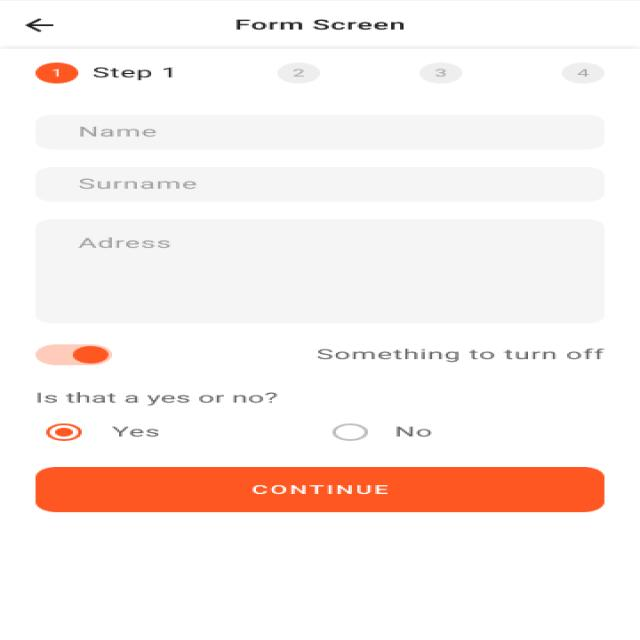QLabel: (306, 347, 614, 362), (28, 390, 281, 406), (228, 18, 409, 32), (250, 484, 397, 496)
VAppBar: (0, 0, 640, 50)
VBtn: (33, 467, 606, 513)
VIcon: (18, 17, 57, 35)
VRadio: (42, 422, 162, 442), (329, 423, 432, 441)
VStepper: (23, 60, 620, 89)
VSwitch: (34, 343, 114, 367)
VTextField: (34, 165, 604, 204), (31, 113, 606, 151)
VTextarea: (33, 218, 603, 325)
